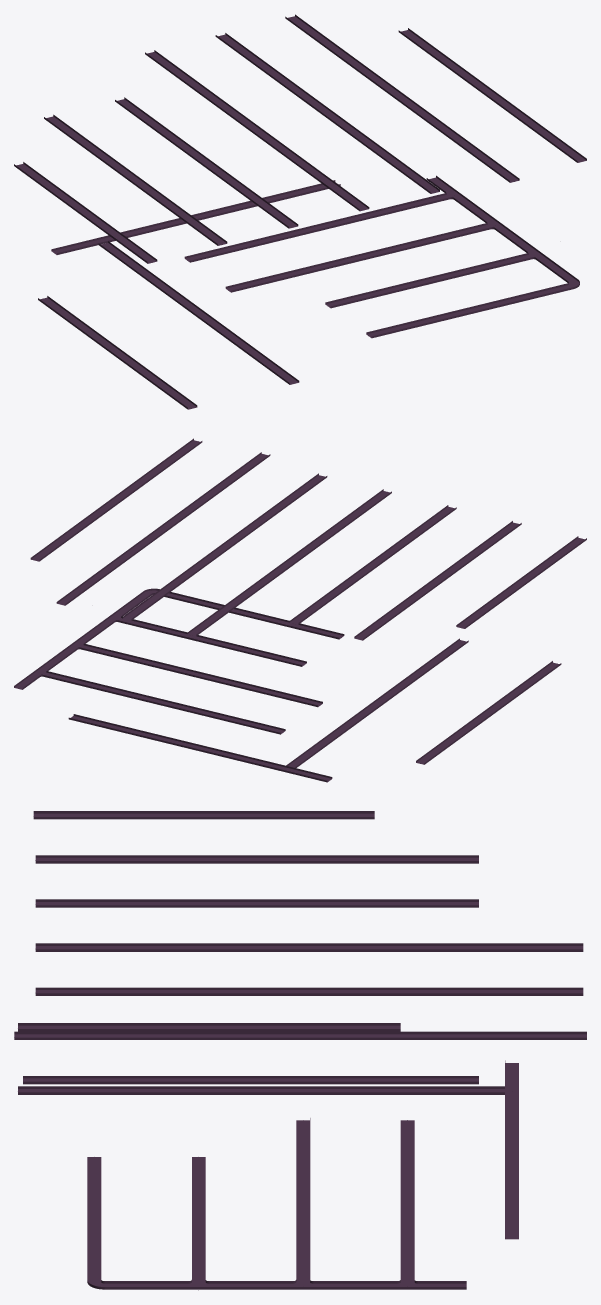
Rendered from GCC-AAV-13220-30(9).fbx.
3 renders of one model, top to bottom at view 1: azimuth 30°, elevation 25°; view 2: azimuth 150°, elevation 25°; view 3: azimuth 270°, elevation 25°, orthographic. The views are drawn at different scales.
Parts seen in each view (by area): view 1: CTRAY 1 of CTSTRA 3 of CTMTRL 1 of CWBRAN 17 of CWAY /13220-, CTRAY 1 of CTSTRA 3 of CTMTRL 1 of CWBRAN 18 of CWAY /13220-, CTRAY 1 of CTSTRA 2 of CTMTRL 1 of CWBRAN 17 of CWAY /13220-, CTRAY 1 of CTSTRA 2 of CTMTRL 1 of CWBRAN 18 of CWAY /13220-, CTRAY 1 of CTSTRA 1 of CTMTRL 1 of CWBRAN 17 of CWAY /13220-, CTRAY 1 of CTSTRA 1 of CTMTRL 1 of CWBRAN 18 of CWAY /13220-; view 2: CTRAY 1 of CTSTRA 3 of CTMTRL 1 of CWBRAN 17 of CWAY /13220-, CTRAY 1 of CTSTRA 5 of CTMTRL 1 of CWBRAN 16 of CWAY /13220-, CTRAY 1 of CTSTRA 4 of CTMTRL 1 of CWBRAN 16 of CWAY /13220-, CTRAY 1 of CTSTRA 3 of CTMTRL 1 of CWBRAN 18 of CWAY /13220-, CTRAY 1 of CTSTRA 2 of CTMTRL 1 of CWBRAN 16 of CWAY /13220-, CTRAY 1 of CTSTRA 3 of CTMTRL 1 of CWBRAN 16 of CWAY /13220-, CTRAY 1 of CTSTRA 2 of CTMTRL 1 of CWBRAN 18 of CWAY /13220-, CTRAY 1 of CTSTRA 1 of CTMTRL 1 of CWBRAN 17 of CWAY /13220-, CTRAY 1 of CTSTRA 2 of CTMTRL 1 of CWBRAN 17 of CWAY /13220-, CTRAY 1 of CTSTRA 1 of CTMTRL 1 of CWBRAN 18 of CWAY /13220-; view 3: CTRAY 1 of CTSTRA 7 of CTMTRL 1 of CWBRAN 37 of CWAY /13220-, CTRAY 1 of CTSTRA 5 of CTMTRL 1 of CWBRAN 33 of CWAY /13220-, CTRAY 1 of CTSTRA 7 of CTMTRL 1 of CWBRAN 33 of CWAY /13220-, CTRAY 1 of CTSTRA 1 of CTMTRL 1 of CWBRAN 34 of CWAY /13220-, CTRAY 1 of CTSTRA 2 of CTMTRL 1 of CWBRAN 34 of CWAY /13220-, CTRAY 1 of CTSTRA 3 of CTMTRL 1 of CWBRAN 34 of CWAY /13220-, CTRAY 1 of CTSTRA 4 of CTMTRL 1 of CWBRAN 34 of CWAY /13220-, CTRAY 1 of CTSTRA 2 of CTMTRL 1 of CWBRAN 35 of CWAY /13220-, CTRAY 1 of CTSTRA 3 of CTMTRL 1 of CWBRAN 35 of CWAY /13220-, CTRAY 1 of CTSTRA 4 of CTMTRL 1 of CWBRAN 35 of CWAY /13220-, CTRAY 1 of CTSTRA 4 of CTMTRL 1 of CWBRAN 37 of CWAY /13220-, CTRAY 1 of CTSTRA 6 of CTMTRL 1 of CWBRAN 37 of CWAY /13220- (+37 smaller).
Part boxes in pixels (x1,y1,x2,y2): CTRAY 1 of CTSTRA 3 of CTMTRL 1 of CWBRAN 17 of CWAY /13220-: (234,227,310,250); CTRAY 1 of CTSTRA 3 of CTMTRL 1 of CWBRAN 18 of CWAY /13220-: (275,257,351,280); CTRAY 1 of CTSTRA 2 of CTMTRL 1 of CWBRAN 17 of CWAY /13220-: (305,210,381,232); CTRAY 1 of CTSTRA 2 of CTMTRL 1 of CWBRAN 18 of CWAY /13220-: (346,240,422,262); CTRAY 1 of CTSTRA 1 of CTMTRL 1 of CWBRAN 17 of CWAY /13220-: (376,193,452,215); CTRAY 1 of CTSTRA 1 of CTMTRL 1 of CWBRAN 18 of CWAY /13220-: (417,223,493,245); CTRAY 1 of CTSTRA 3 of CTMTRL 1 of CWBRAN 17 of CWAY /13220-: (170,702,240,723); CTRAY 1 of CTSTRA 5 of CTMTRL 1 of CWBRAN 16 of CWAY /13220-: (262,761,332,782); CTRAY 1 of CTSTRA 4 of CTMTRL 1 of CWBRAN 16 of CWAY /13220-: (198,745,267,766); CTRAY 1 of CTSTRA 3 of CTMTRL 1 of CWBRAN 18 of CWAY /13220-: (208,675,277,695); CTRAY 1 of CTSTRA 2 of CTMTRL 1 of CWBRAN 16 of CWAY /13220-: (68,714,138,734); CTRAY 1 of CTSTRA 3 of CTMTRL 1 of CWBRAN 16 of CWAY /13220-: (133,730,202,750); CTRAY 1 of CTSTRA 2 of CTMTRL 1 of CWBRAN 18 of CWAY /13220-: (143,659,212,680); CTRAY 1 of CTSTRA 1 of CTMTRL 1 of CWBRAN 17 of CWAY /13220-: (41,671,110,691); CTRAY 1 of CTSTRA 2 of CTMTRL 1 of CWBRAN 17 of CWAY /13220-: (106,686,175,707); CTRAY 1 of CTSTRA 1 of CTMTRL 1 of CWBRAN 18 of CWAY /13220-: (78,643,148,664); CTRAY 1 of CTSTRA 7 of CTMTRL 1 of CWBRAN 37 of CWAY /13220-: (64,1031,169,1039); CTRAY 1 of CTSTRA 5 of CTMTRL 1 of CWBRAN 33 of CWAY /13220-: (270,1076,374,1084); CTRAY 1 of CTSTRA 7 of CTMTRL 1 of CWBRAN 33 of CWAY /13220-: (61,1076,165,1084); CTRAY 1 of CTSTRA 1 of CTMTRL 1 of CWBRAN 34 of CWAY /13220-: (400,1086,504,1094); CTRAY 1 of CTSTRA 2 of CTMTRL 1 of CWBRAN 34 of CWAY /13220-: (296,1086,400,1094); CTRAY 1 of CTSTRA 3 of CTMTRL 1 of CWBRAN 34 of CWAY /13220-: (192,1086,296,1094); CTRAY 1 of CTSTRA 4 of CTMTRL 1 of CWBRAN 34 of CWAY /13220-: (87,1086,191,1094); CTRAY 1 of CTSTRA 2 of CTMTRL 1 of CWBRAN 35 of CWAY /13220-: (296,1023,400,1031); CTRAY 1 of CTSTRA 3 of CTMTRL 1 of CWBRAN 35 of CWAY /13220-: (192,1023,296,1031); CTRAY 1 of CTSTRA 4 of CTMTRL 1 of CWBRAN 35 of CWAY /13220-: (87,1023,191,1031); CTRAY 1 of CTSTRA 4 of CTMTRL 1 of CWBRAN 37 of CWAY /13220-: (378,1031,482,1039); CTRAY 1 of CTSTRA 6 of CTMTRL 1 of CWBRAN 37 of CWAY /13220-: (169,1031,273,1039).
Size of the model in its own units: 795 by 242 by 648.
